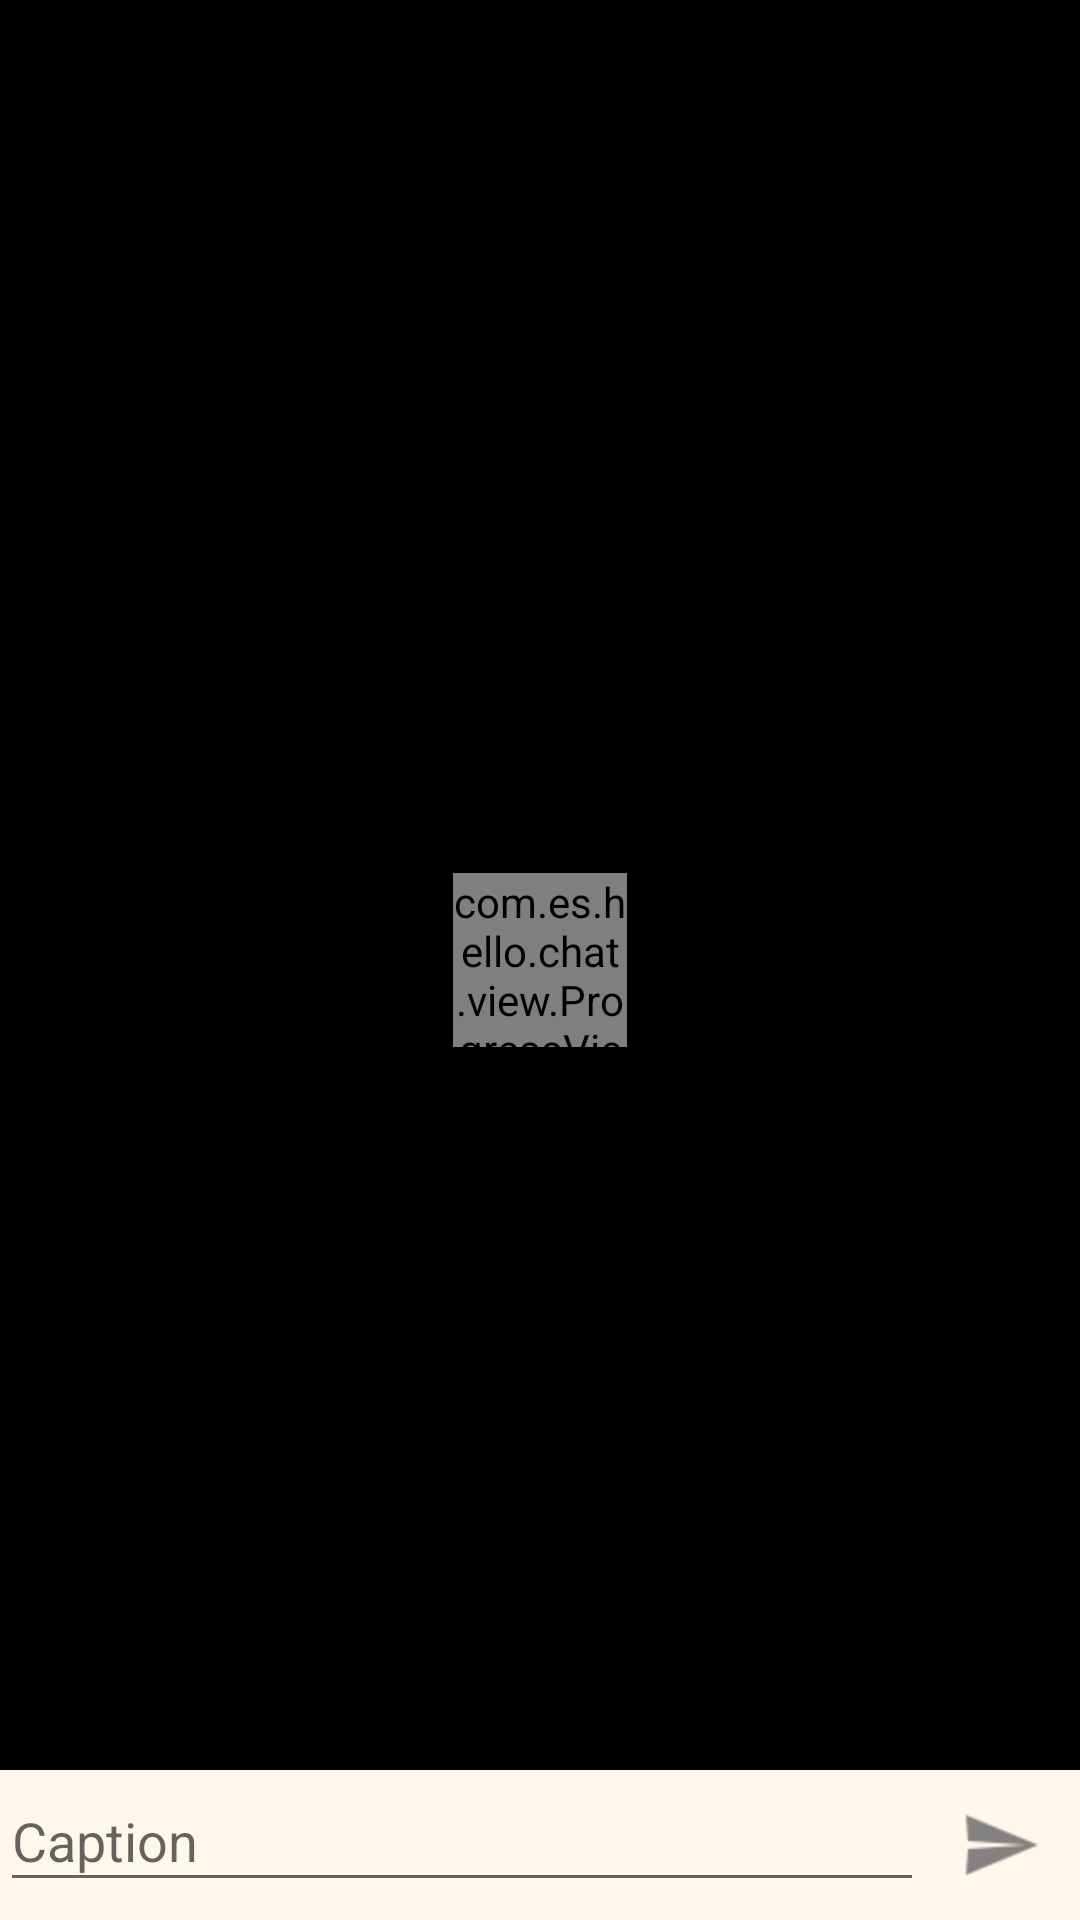

Named icons in this screenshot (1080px x 1920px) and their bounding boxes, (x1, y1, x2, y2):
send: (965, 1815, 1037, 1875)
